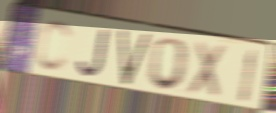C: (34, 18, 74, 75)
I: (237, 47, 260, 107)
J: (76, 27, 111, 79)
O: (145, 35, 192, 93)
V: (117, 29, 152, 88)
X: (185, 39, 229, 102)
